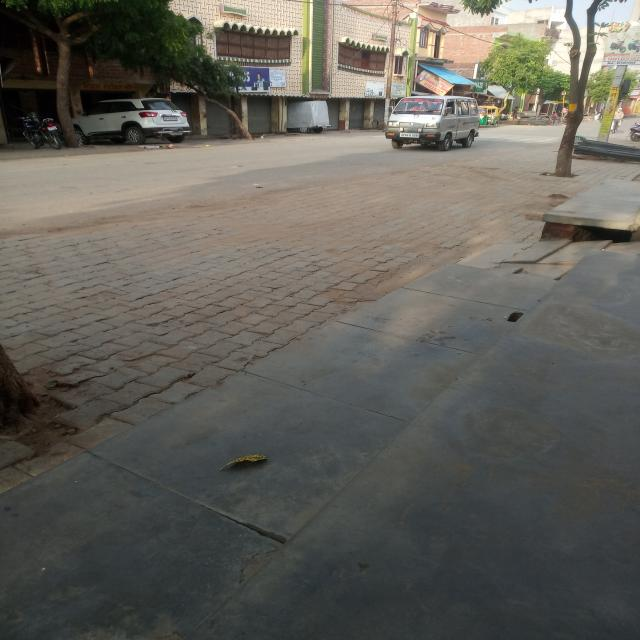Car: (382, 91, 486, 151)
